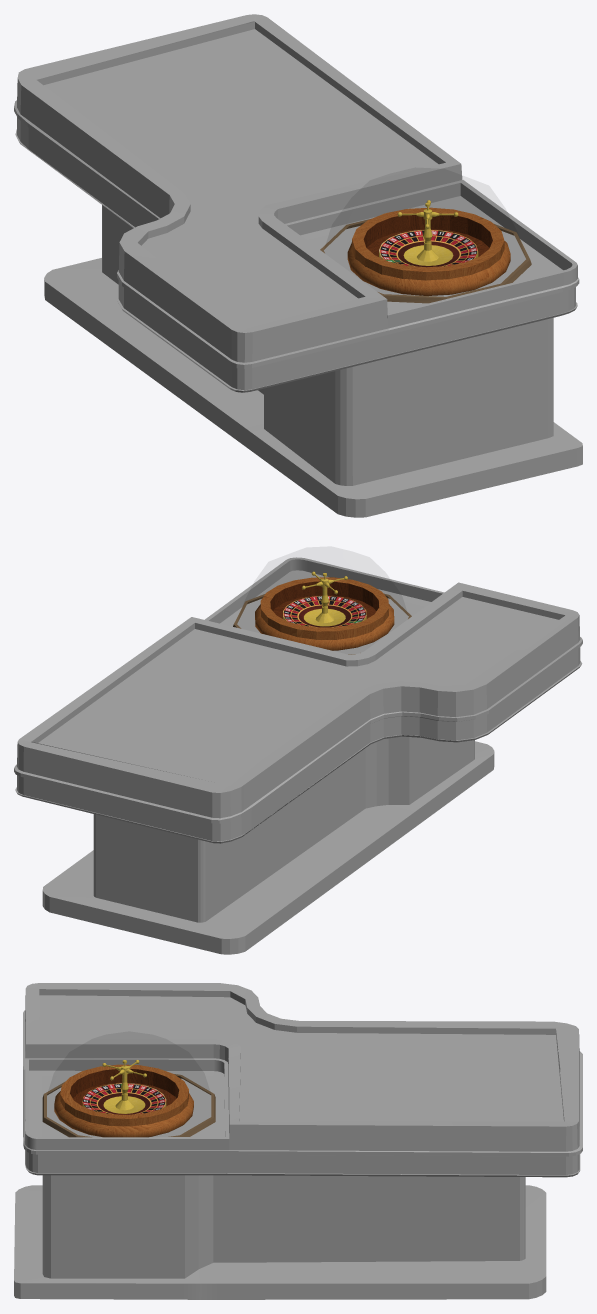
File: Roulette_Table.fbx
The picture shows the model from 3 angles, top to bottom: view 1: azimuth 30°, elevation 25°; view 2: azimuth 150°, elevation 25°; view 3: azimuth 270°, elevation 25°; orthographic projection. The views are drawn at different scales.
Parts seen in each view (by area): view 1: Table, Roulette (×2), Dome; view 2: Table, Roulette (×2); view 3: Table, Roulette (×2), Dome.
Boxes of the visible parts, bbox=[...] form: Table: bbox=[14, 14, 582, 517]; Roulette (×2): bbox=[347, 200, 510, 295]; Dome: bbox=[320, 218, 531, 303]; Table: bbox=[14, 557, 582, 954]; Roulette (×2): bbox=[255, 571, 394, 650]; Table: bbox=[14, 983, 582, 1299]; Roulette (×2): bbox=[54, 1060, 193, 1137]; Dome: bbox=[42, 1074, 215, 1137].
Size of the model in its own units: 184 by 129 by 304.
Materials: 4 (1 with a texture image).
